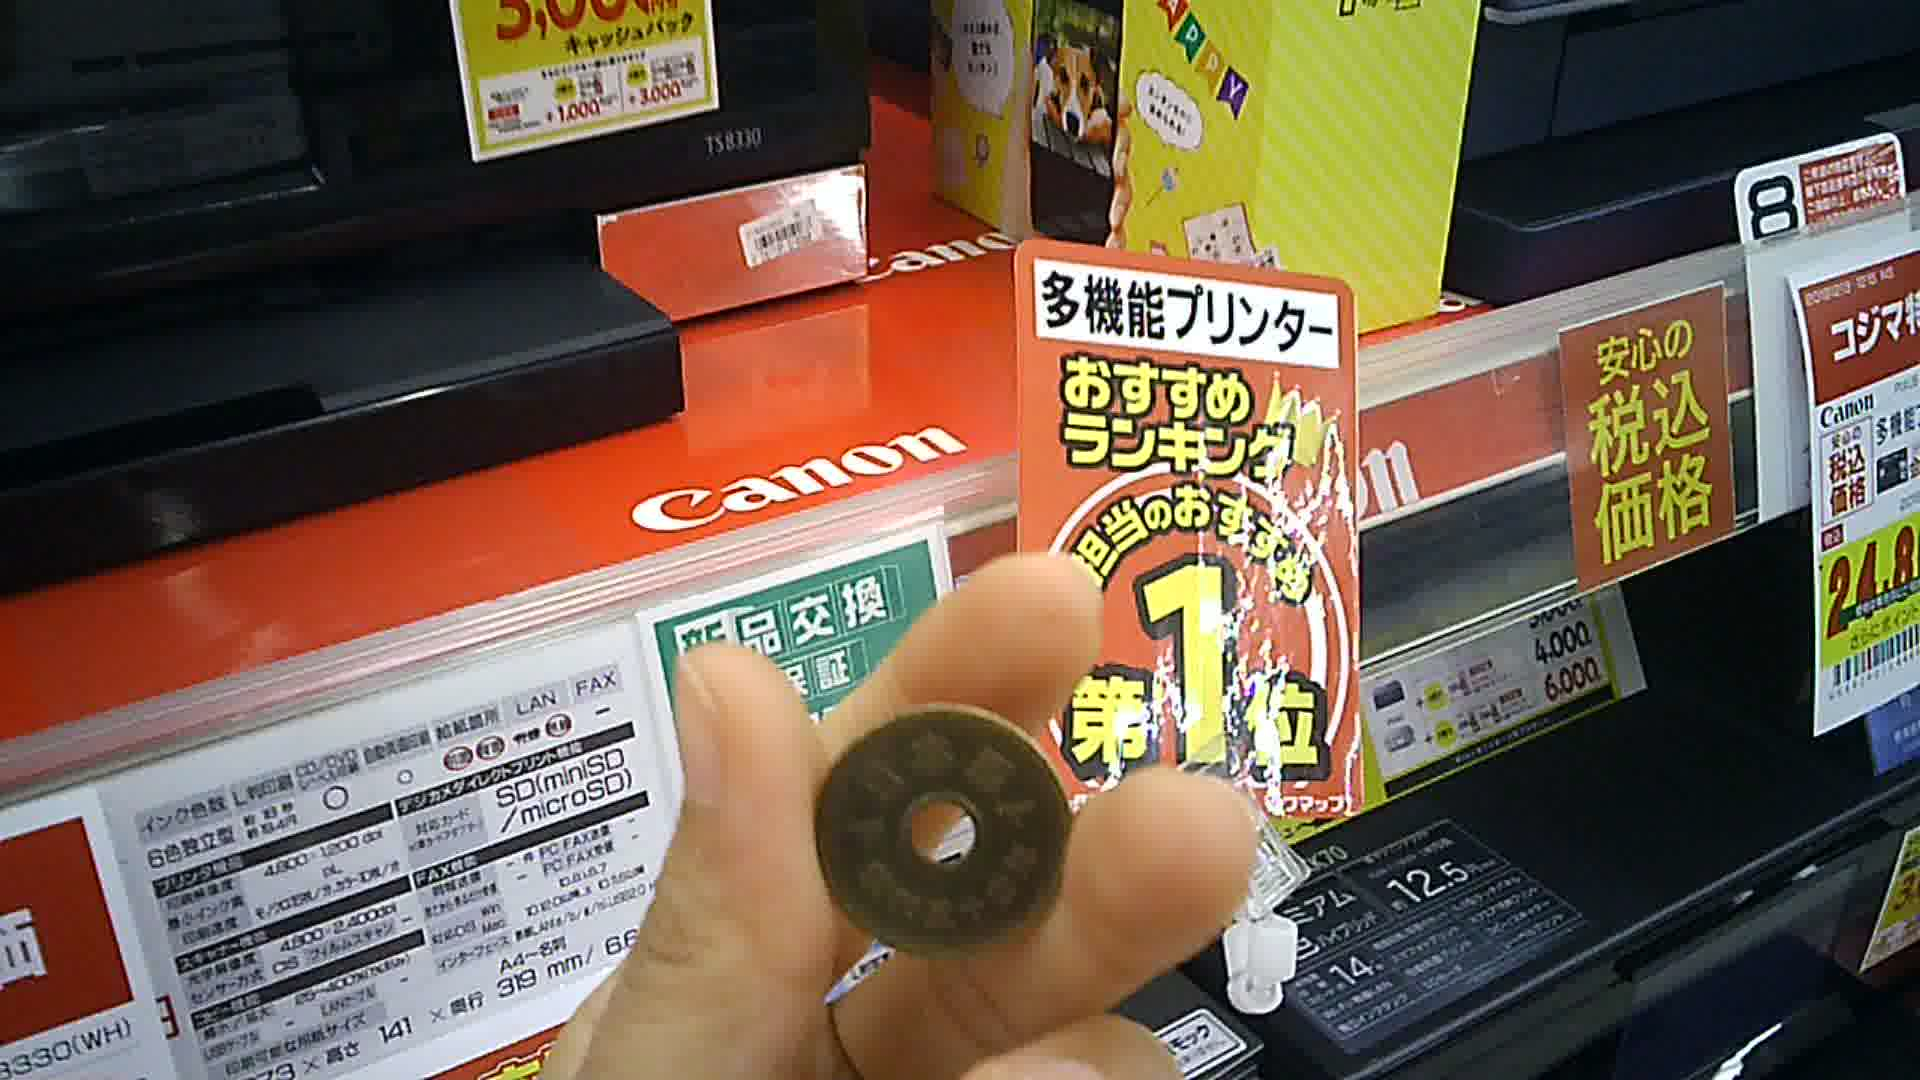5 Yen: (800, 700, 1095, 964)
